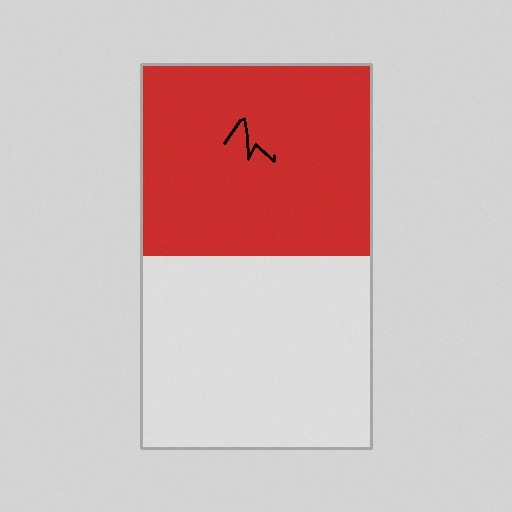crack: (220, 114, 278, 165)
